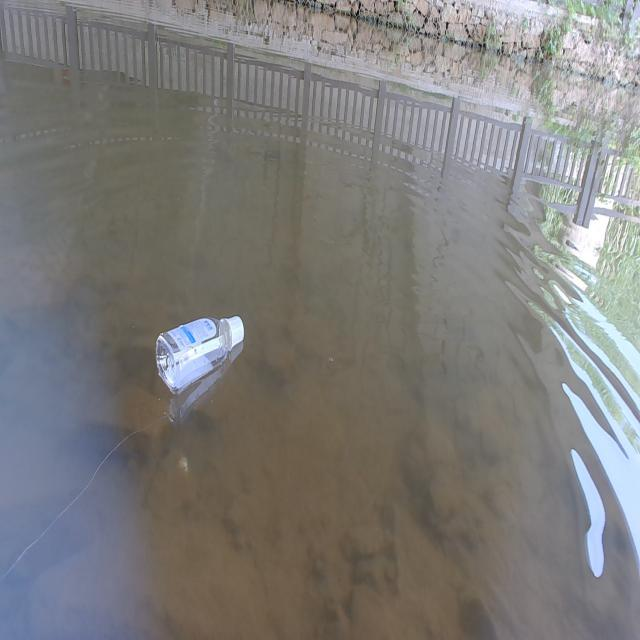Bottle: (154, 312, 245, 397)
